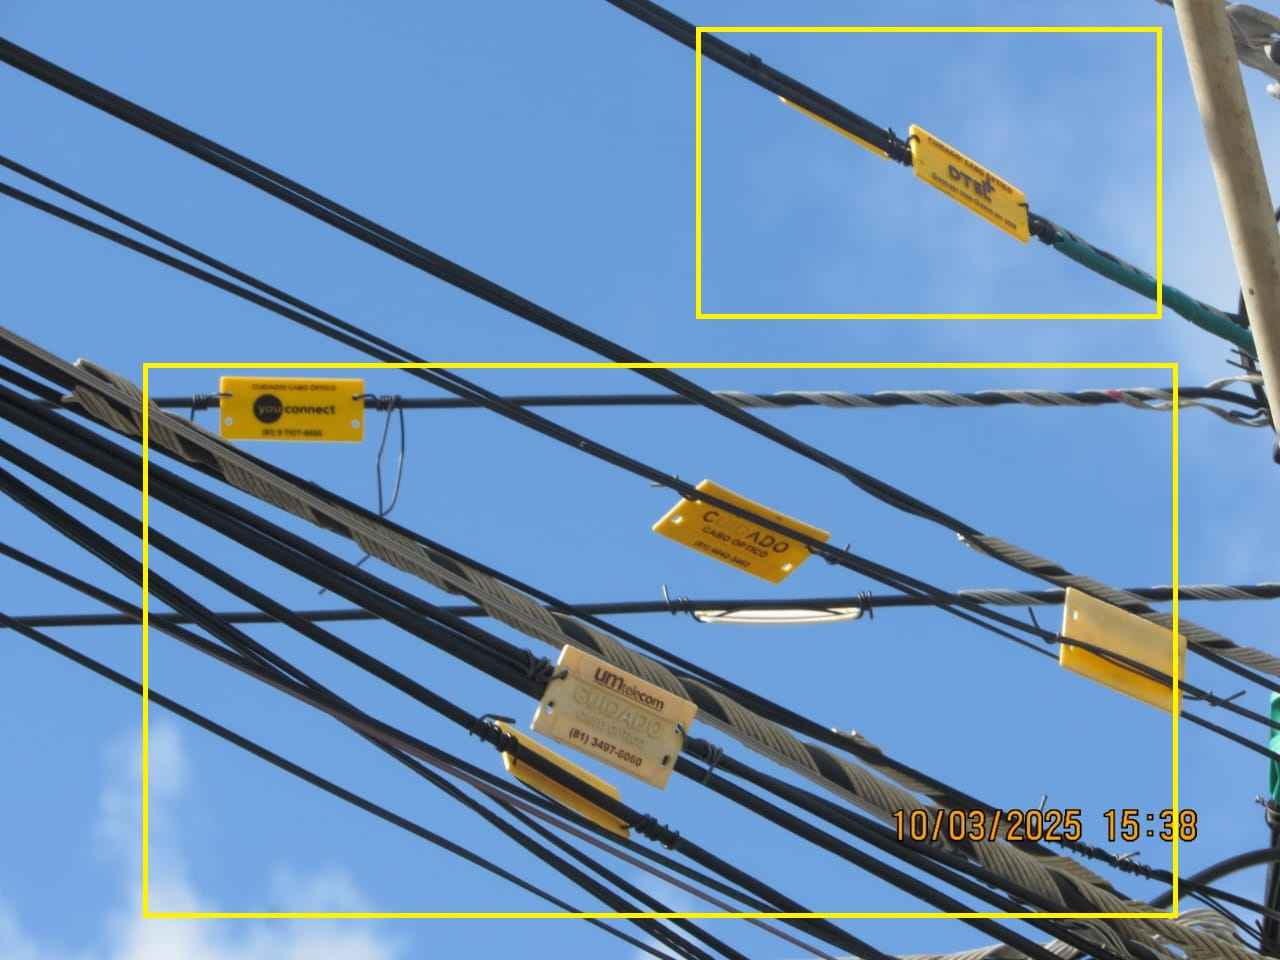fibra_optica: (508, 621, 711, 796), (1036, 543, 1200, 732), (643, 451, 843, 597), (900, 119, 1045, 248), (199, 366, 390, 454)
